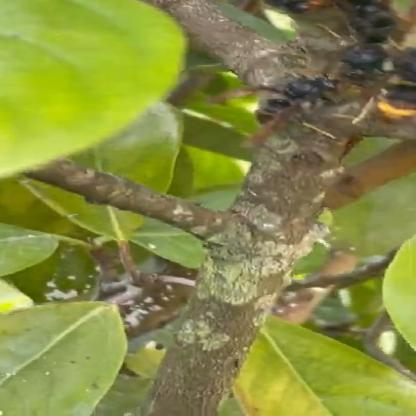bee: (241, 64, 354, 148), (273, 0, 416, 62), (356, 30, 416, 146)
